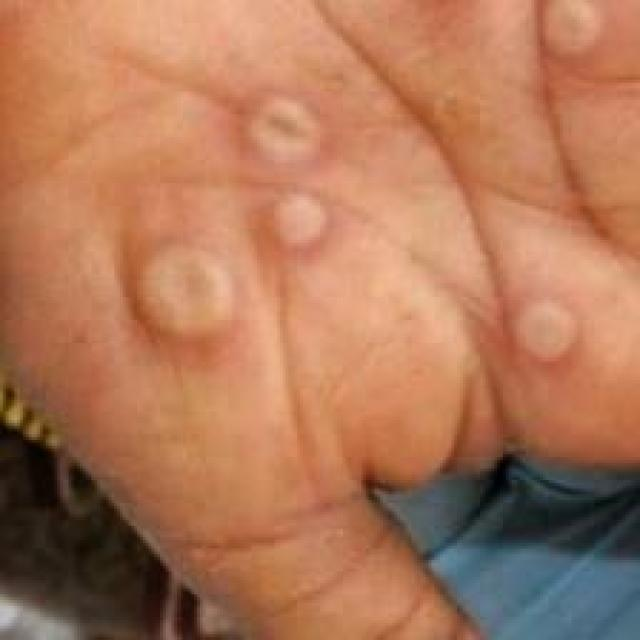monkeypox: (57, 35, 640, 449)
